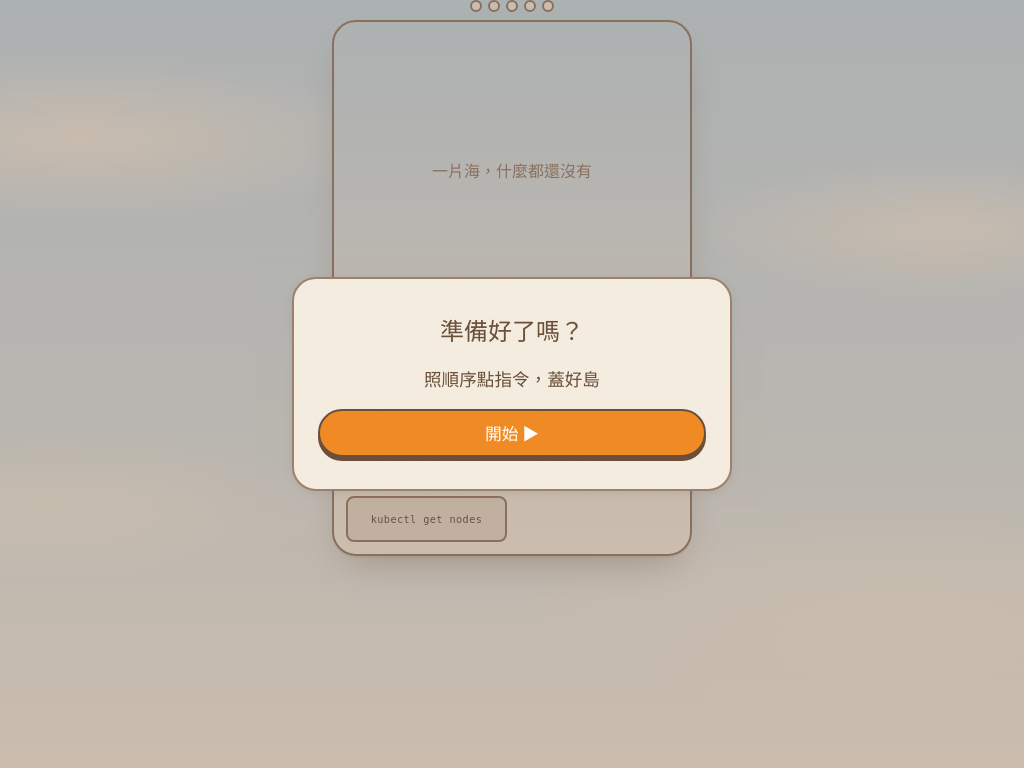
Day02Game › 島還沒蓋就下 kubectl 會被拒絕，指令卡不會鎖定
Click the button with test id "shell-start": (512, 433) [318,409,706,457]
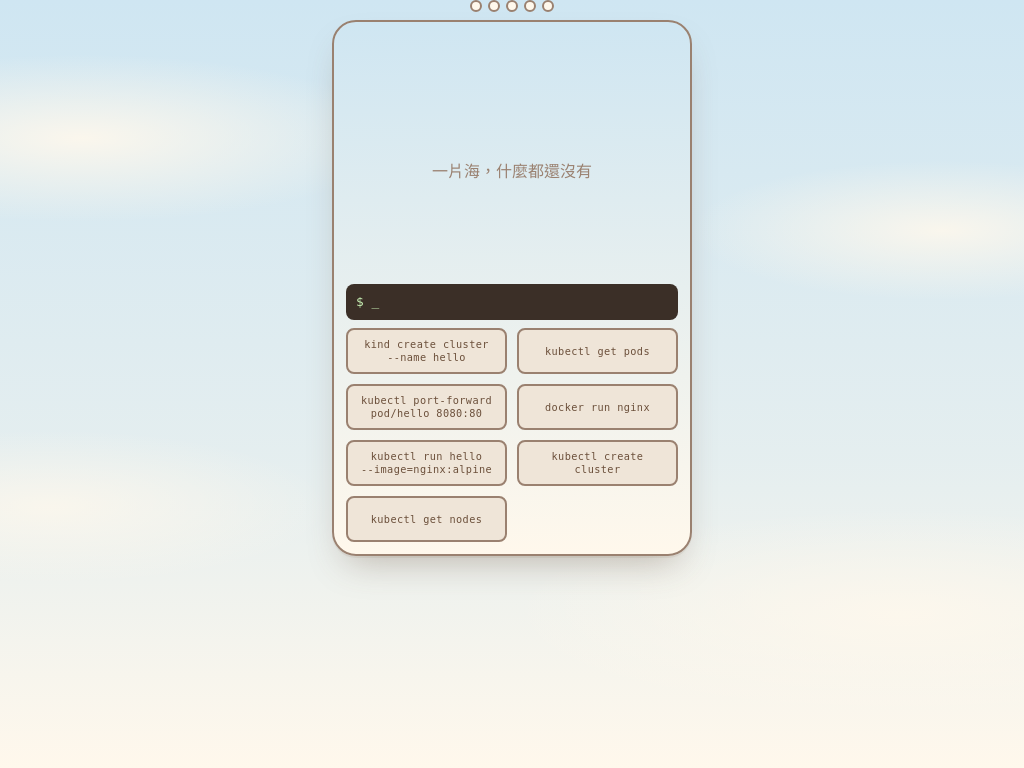
Click the button "kubectl get nodes": (426, 520) [346,496,507,542]
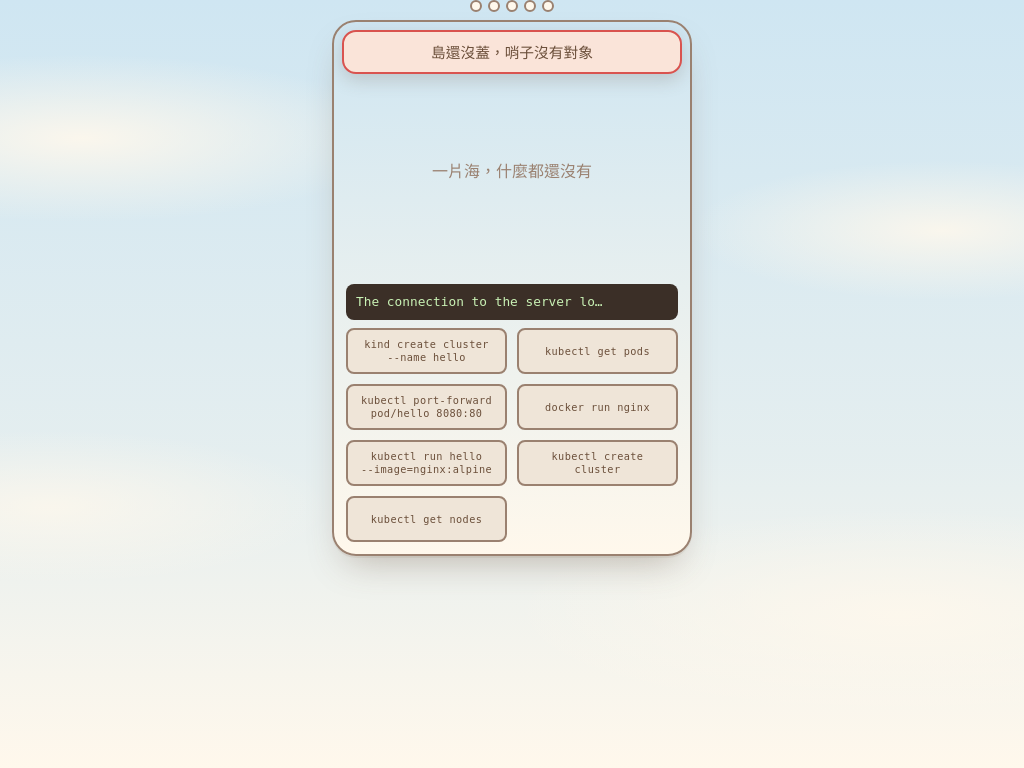
Check: the text with test id "terminal" shows "connection to the server", box [356,294,602,309]
